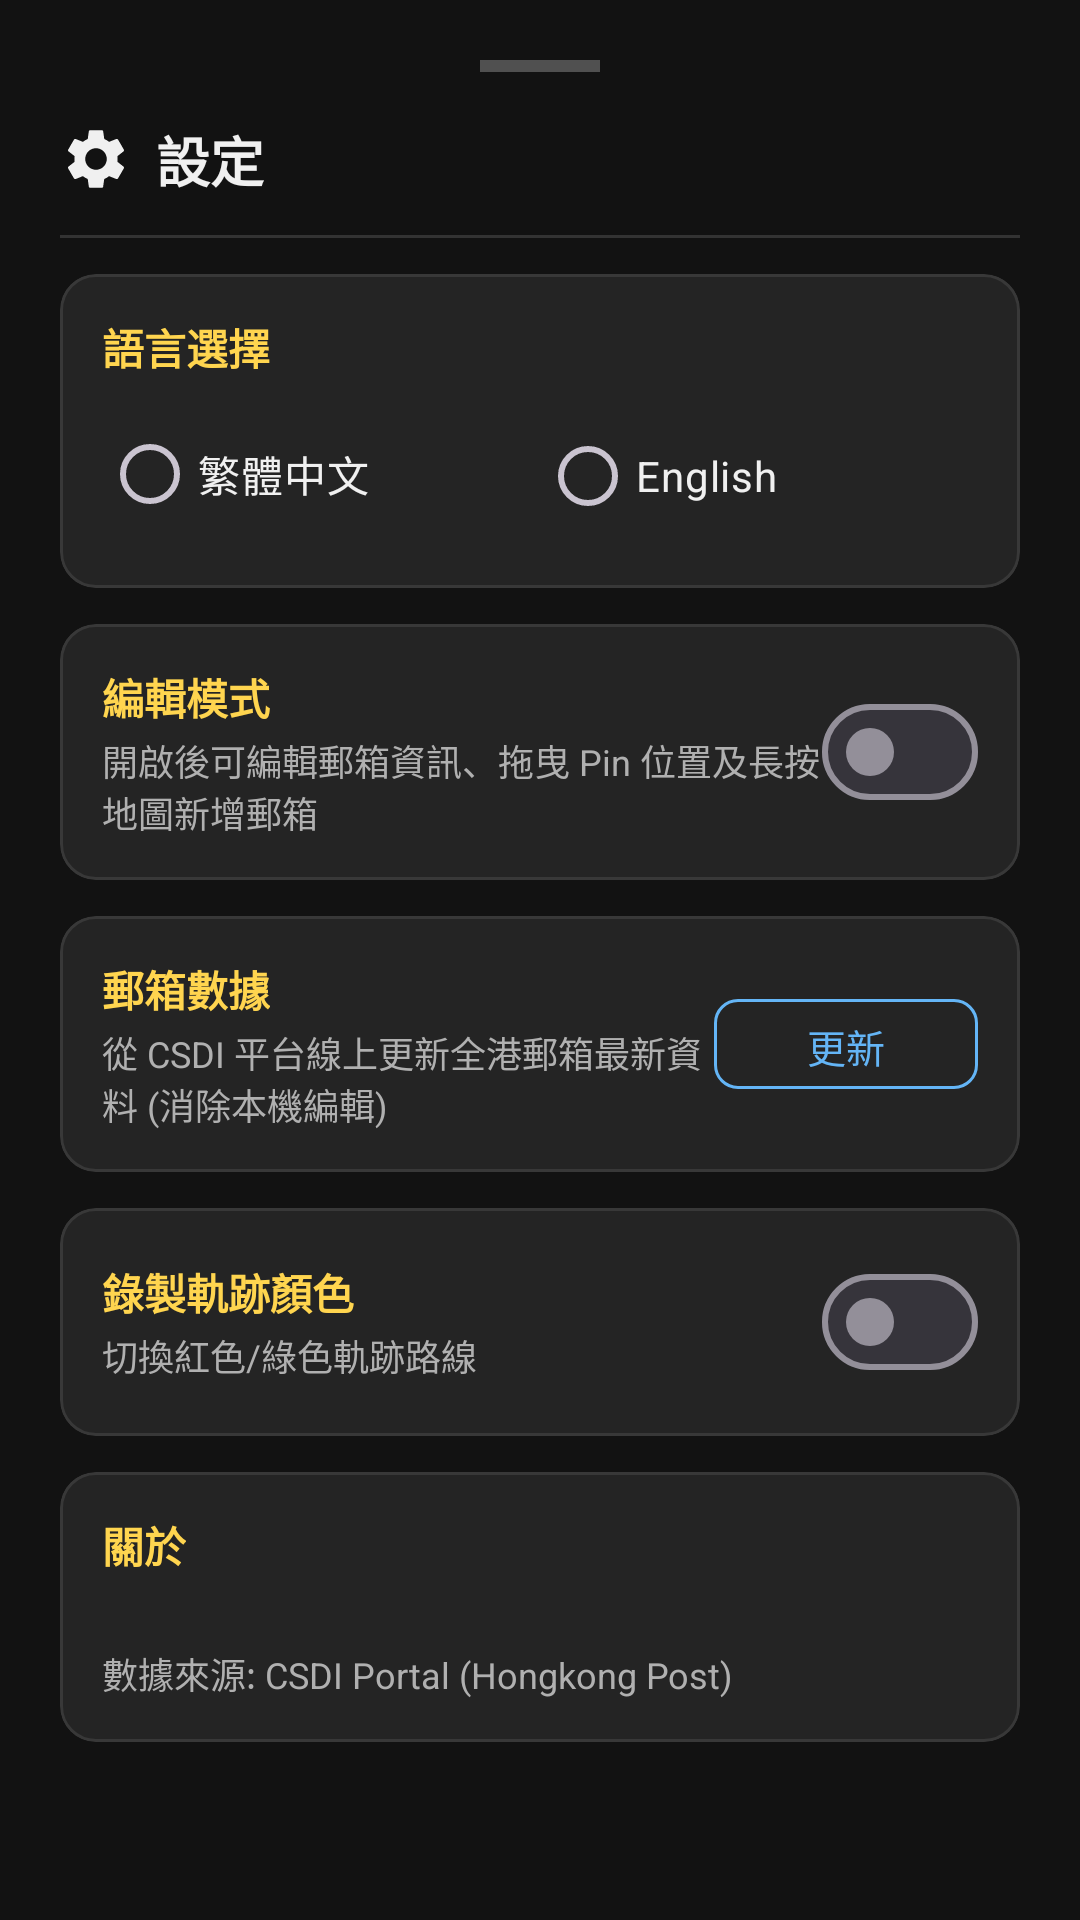

Where to tap for icons on this 1080px x 1920px app screen, as [x,y]:
Settings icon: [96,159]
